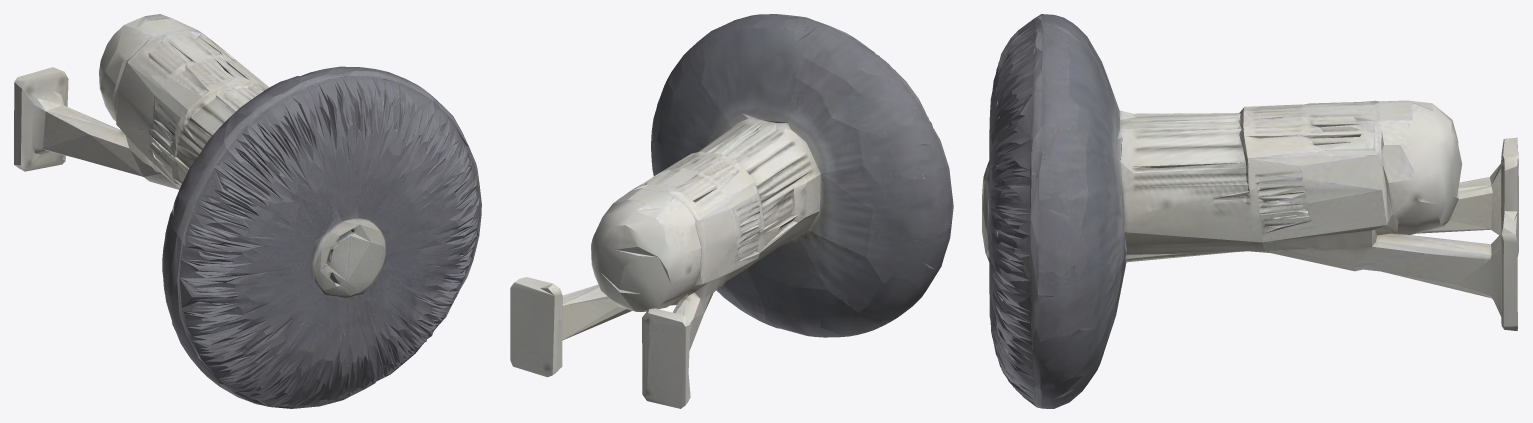
Rendered from w3hwallfan.glb.
3 views of the same model, side by side, from view 1: azimuth 30°, elevation 25°; view 2: azimuth 150°, elevation 25°; view 3: azimuth 270°, elevation 25° (orthographic). The views are drawn at different scales.
Visible parts, largest first — view 1: output_unwrapped; view 2: output_unwrapped; view 3: output_unwrapped.
Part boxes in pixels (bbox=[...]): output_unwrapped: bbox=[14, 14, 481, 408]; output_unwrapped: bbox=[510, 14, 953, 408]; output_unwrapped: bbox=[982, 14, 1518, 408].
Bounding box in the file's own units: 0.4428 × 0.45 × 0.6099.
1 material, 1 textured.
